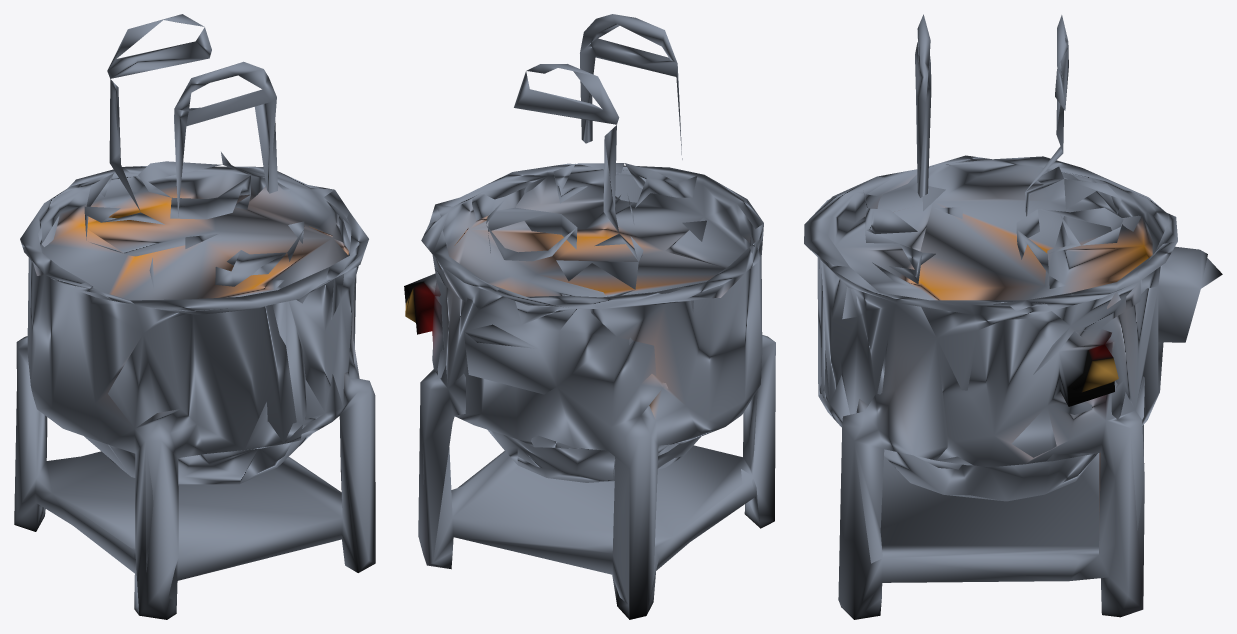
The model's file is gen3d-deep-fryer-lod1.glb.
The picture shows the model from 3 angles, left to right: view 1: azimuth 30°, elevation 25°; view 2: azimuth 150°, elevation 25°; view 3: azimuth 270°, elevation 25°; orthographic projection. The views are drawn at different scales.
Visible parts, largest first — view 1: part_0; view 2: part_0; view 3: part_0.
Boxes of the visible parts, box(x1,y1,x2,y2) form: part_0: box(14, 14, 375, 619); part_0: box(404, 14, 775, 619); part_0: box(804, 14, 1222, 619).
Size of the model in its own units: 0.6229 by 0.9917 by 0.7051.
